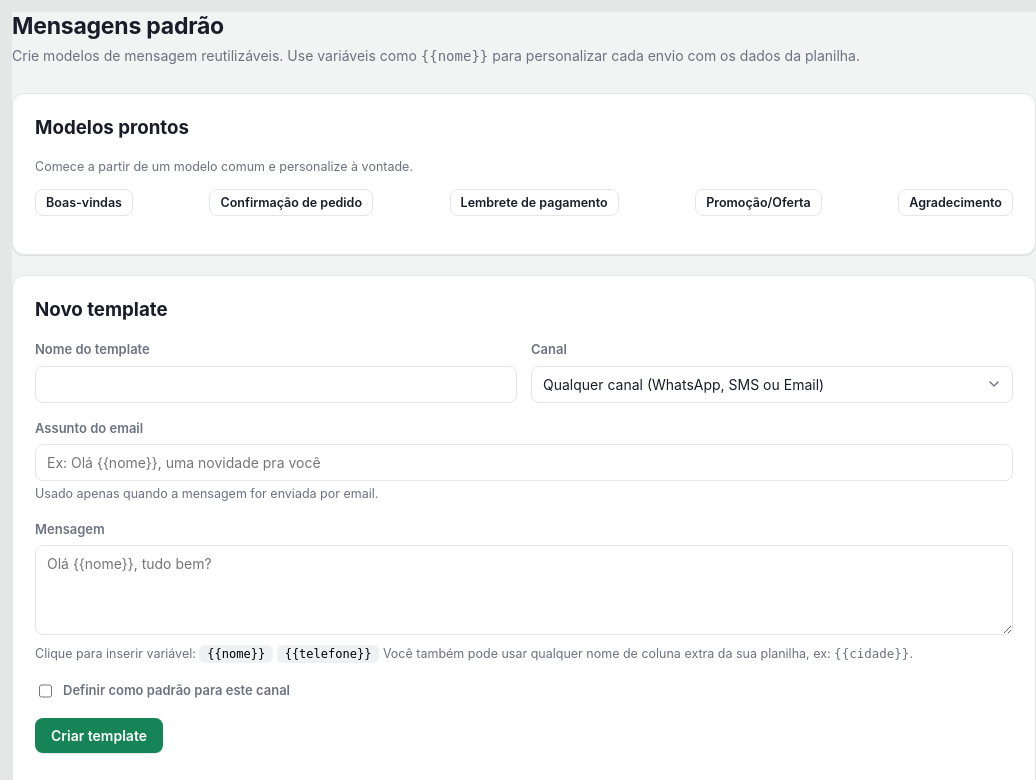
Test case: TemplatesPage › fills the form from a starter template when clicked
Click the button "Boas-vindas".
click(84, 203)  # box [35,189,133,216]
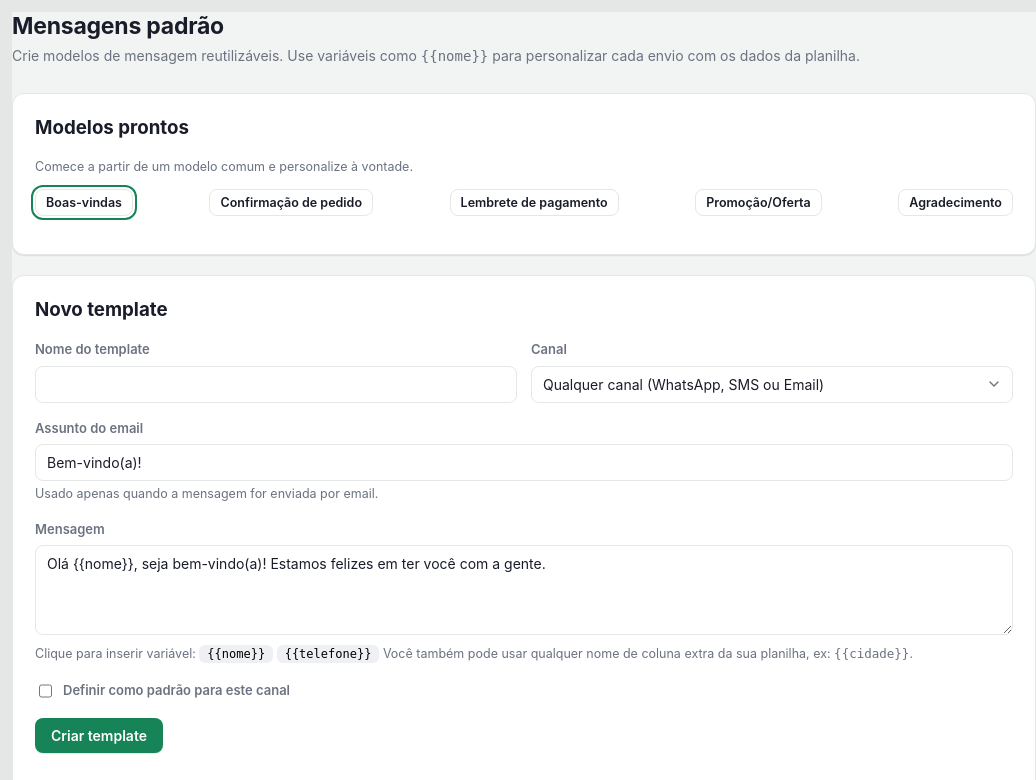
Expected: the heading "Novo template" is shown, [35,298,168,321]
Expected: the text box labelled "Mensagem" holds "Olá {{nome}}, seja bem-vindo(a)! Estamos felizes em ter você com a gente.", [35,546,1013,636]
Expected: the field labelled "Assunto do email" holds "Bem-vindo(a)!", [35,444,1013,481]
